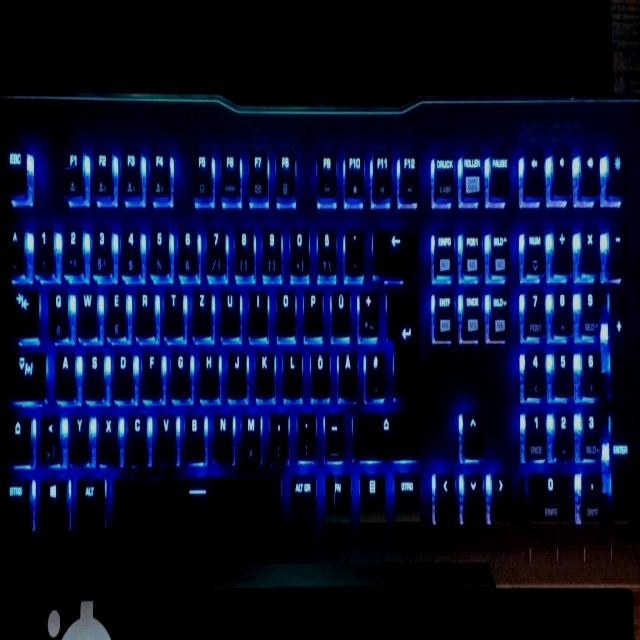0: (287, 222, 308, 273)
1: (31, 219, 52, 272)
2: (61, 222, 82, 273)
3: (89, 221, 111, 275)
4: (118, 220, 140, 272)
5: (147, 221, 169, 274)
6: (176, 219, 198, 273)
7: (203, 222, 225, 275)
8: (232, 222, 254, 276)
9: (259, 222, 281, 275)
a: (52, 343, 74, 397)
accent: (341, 223, 363, 274)
ae: (336, 345, 357, 396)
alt-left: (73, 472, 105, 525)
altgr-right: (286, 468, 316, 519)
b: (183, 407, 205, 460)
c: (125, 408, 147, 461)
caret: (3, 221, 23, 270)
comma: (267, 407, 288, 460)
d: (110, 343, 132, 397)
del: (370, 223, 416, 273)
e: (103, 281, 125, 335)
enter: (384, 280, 418, 400)
f: (140, 344, 160, 397)
g: (168, 344, 190, 396)
h: (197, 344, 219, 397)
hash: (363, 345, 384, 397)
i: (246, 284, 267, 334)
j: (225, 344, 246, 396)
k: (253, 344, 274, 396)
keyboard: (0, 93, 640, 597)
l: (281, 345, 301, 396)
less: (38, 408, 58, 461)
m: (239, 407, 261, 463)
minus: (322, 407, 343, 457)
n: (211, 407, 233, 460)
o: (273, 283, 294, 334)
oe: (309, 345, 329, 396)
p: (301, 283, 321, 333)
plus: (356, 283, 378, 335)
point: (295, 407, 315, 457)
q: (45, 282, 67, 335)
r: (132, 282, 154, 335)
s: (82, 343, 103, 399)
shift-left: (4, 411, 30, 460)
shift-lock: (7, 345, 45, 396)
shift-right: (350, 407, 420, 456)
space: (107, 470, 282, 526)
ss: (314, 223, 335, 274)
strg-left: (1, 473, 31, 525)
strg-right: (391, 467, 421, 520)
t: (162, 283, 183, 334)
tab: (5, 280, 38, 330)
u: (218, 283, 239, 335)
ue: (329, 283, 350, 334)
v: (153, 407, 176, 461)
w: (76, 282, 96, 336)
x: (96, 408, 118, 460)
y: (67, 408, 89, 461)
z: (190, 283, 210, 334)
